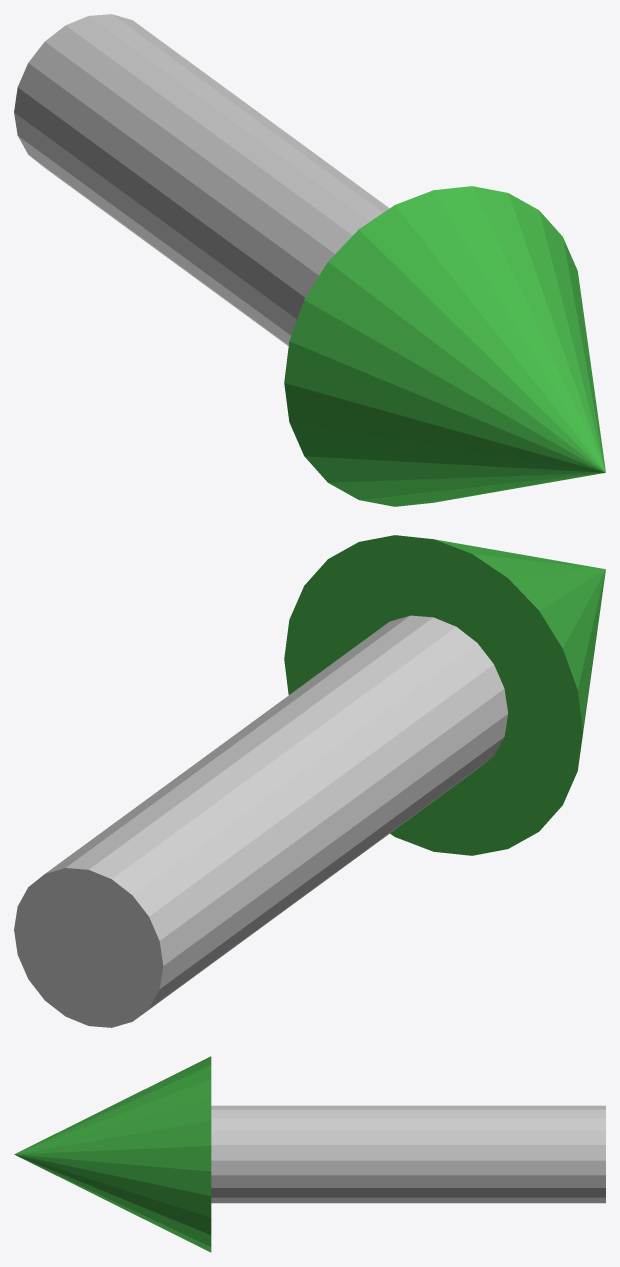
Rendered from Arrow.obj.
3 renders of one model, top to bottom at view 1: azimuth 30°, elevation 25°; view 2: azimuth 150°, elevation 25°; view 3: azimuth 270°, elevation 25°, orthographic. The views are drawn at different scales.
Visible parts, largest first — view 1: group_0_4634441, group_0_1206582; view 2: group_0_1206582, group_0_4634441; view 3: group_0_1206582, group_0_4634441.
Boxes of the visible parts, x1,y1,x2,y2 form: group_0_4634441: [284, 186, 605, 506]; group_0_1206582: [14, 14, 389, 345]; group_0_1206582: [14, 615, 508, 1027]; group_0_4634441: [284, 535, 605, 855]; group_0_1206582: [211, 1105, 605, 1203]; group_0_4634441: [14, 1056, 211, 1252].
Size of the model in its own units: 20 by 20 by 60.
